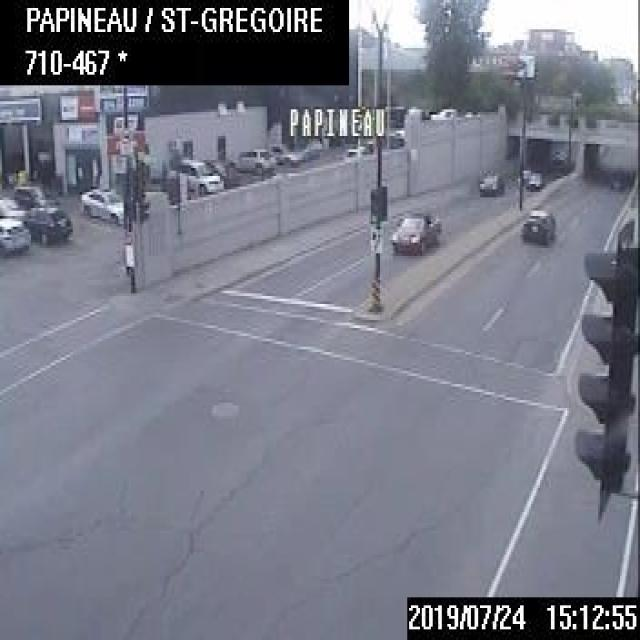vehicle: (389, 206, 440, 253), (22, 203, 73, 244), (79, 182, 124, 224), (171, 158, 222, 194), (518, 202, 555, 242), (233, 146, 278, 172), (0, 218, 29, 258), (200, 157, 240, 185), (476, 168, 504, 195), (13, 186, 57, 203), (0, 194, 25, 218), (525, 171, 542, 188)
